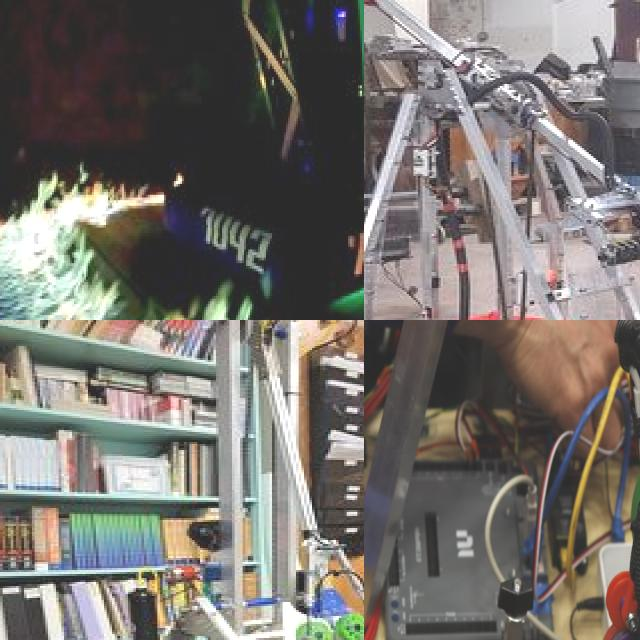FRC-Robots: (0, 320, 364, 640), (364, 0, 640, 320), (364, 320, 640, 640), (150, 0, 364, 318)
